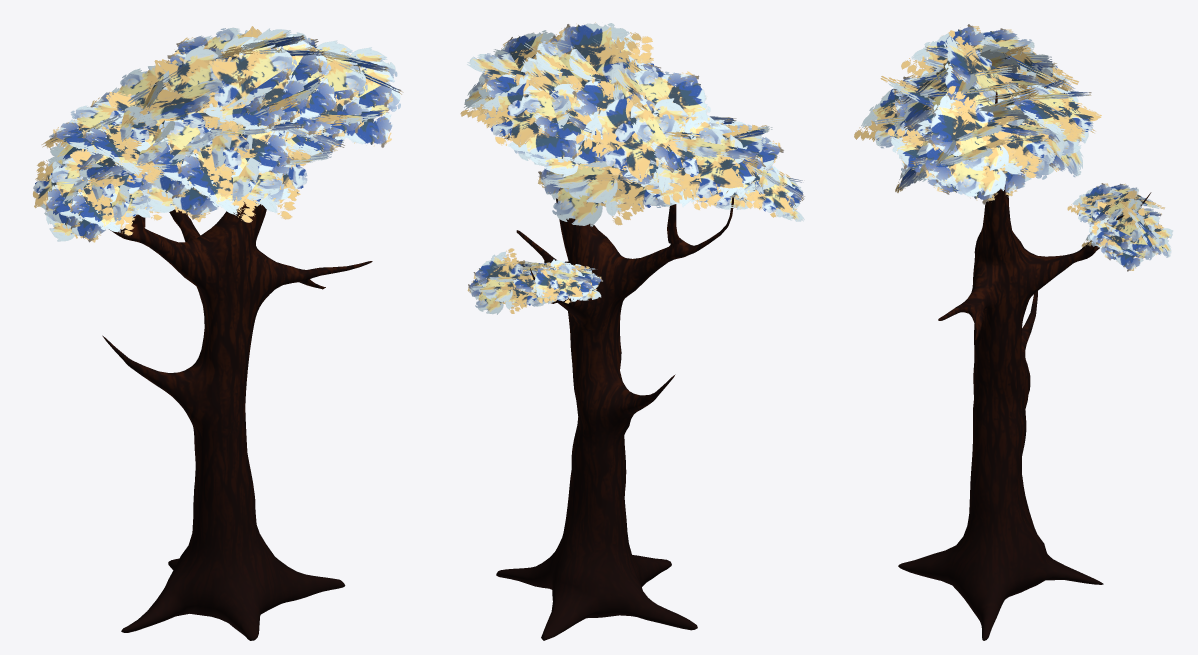
The model's file is treever1.fbx.
The picture shows the model from 3 angles, left to right: view 1: azimuth 30°, elevation 25°; view 2: azimuth 150°, elevation 25°; view 3: azimuth 270°, elevation 25°; orthographic projection. The views are drawn at different scales.
Parts seen in each view (by area): view 1: tree_ver1_leafheap, GEO_treetrunk_a2; view 2: tree_ver1_leafheap, GEO_treetrunk_a2; view 3: tree_ver1_leafheap, GEO_treetrunk_a2.
Boxes of the visible parts, <box> form: tree_ver1_leafheap: <box>33,26,403,242</box>; GEO_treetrunk_a2: <box>102,200,372,640</box>; tree_ver1_leafheap: <box>460,22,804,314</box>; GEO_treetrunk_a2: <box>496,189,733,640</box>; tree_ver1_leafheap: <box>854,24,1173,271</box>; GEO_treetrunk_a2: <box>898,91,1151,640</box>.
Bounding box in the file's own units: 3.74 × 5.79 × 3.18.
